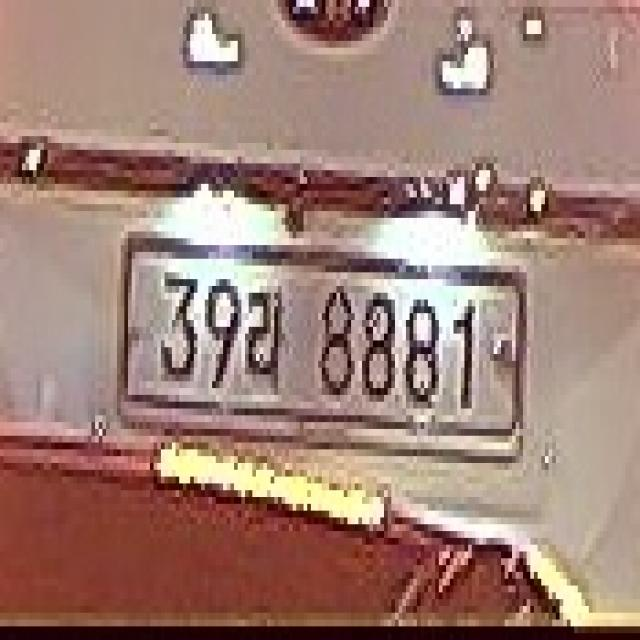1: (450, 300, 475, 408)
3: (161, 272, 201, 395)
8: (314, 286, 354, 402), (402, 293, 439, 408), (358, 293, 395, 402)
9: (202, 272, 242, 388)
la: (241, 286, 289, 388)
license_plate: (121, 238, 523, 450)
